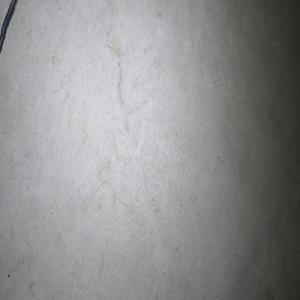Wire: (0, 0, 17, 55)
